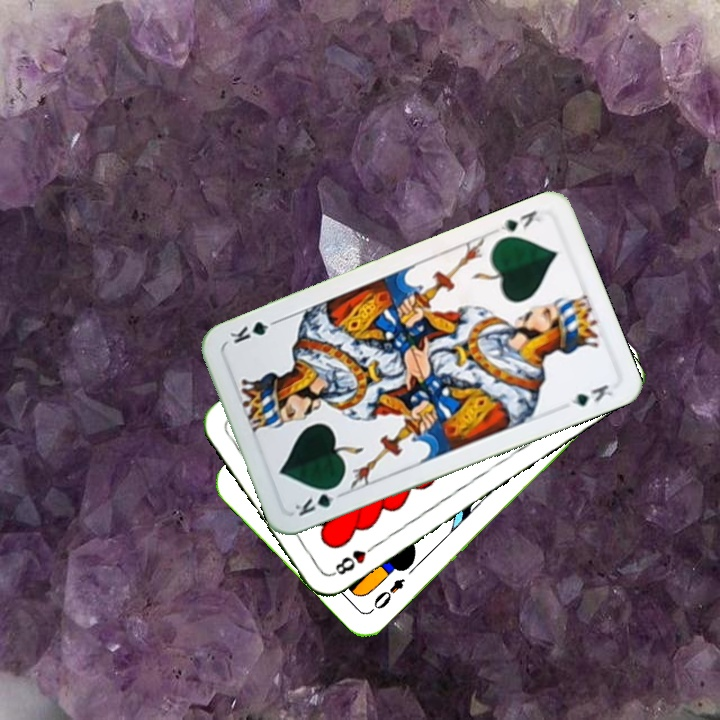EO: (366, 574, 408, 615)
GK: (290, 481, 347, 519), (496, 206, 547, 235)
H8: (328, 539, 380, 579)
